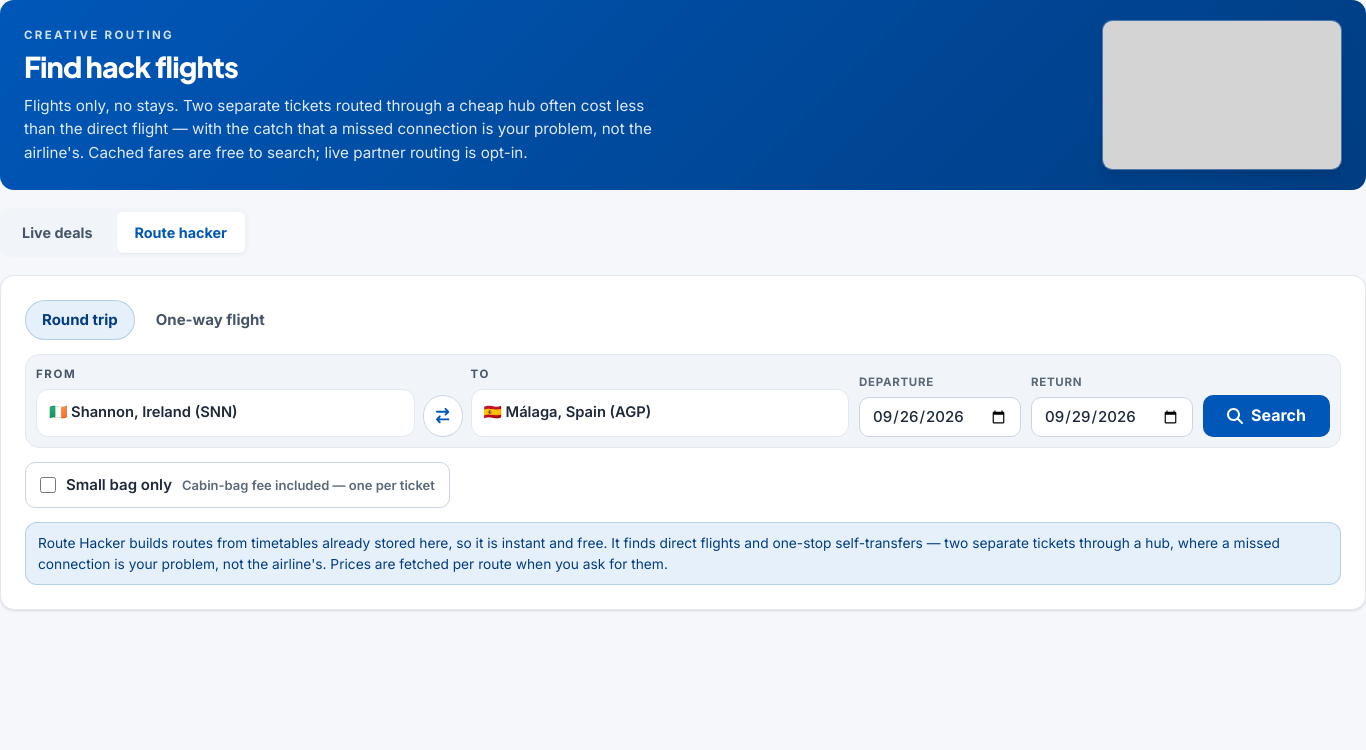
Scenario: Hack Flights search controls › says which airports a city search actually covered
This screenshot has width=1366, height=750.
Type "Paris" into the dropdown labelled "To" at (660, 413), box [470, 390, 849, 437]
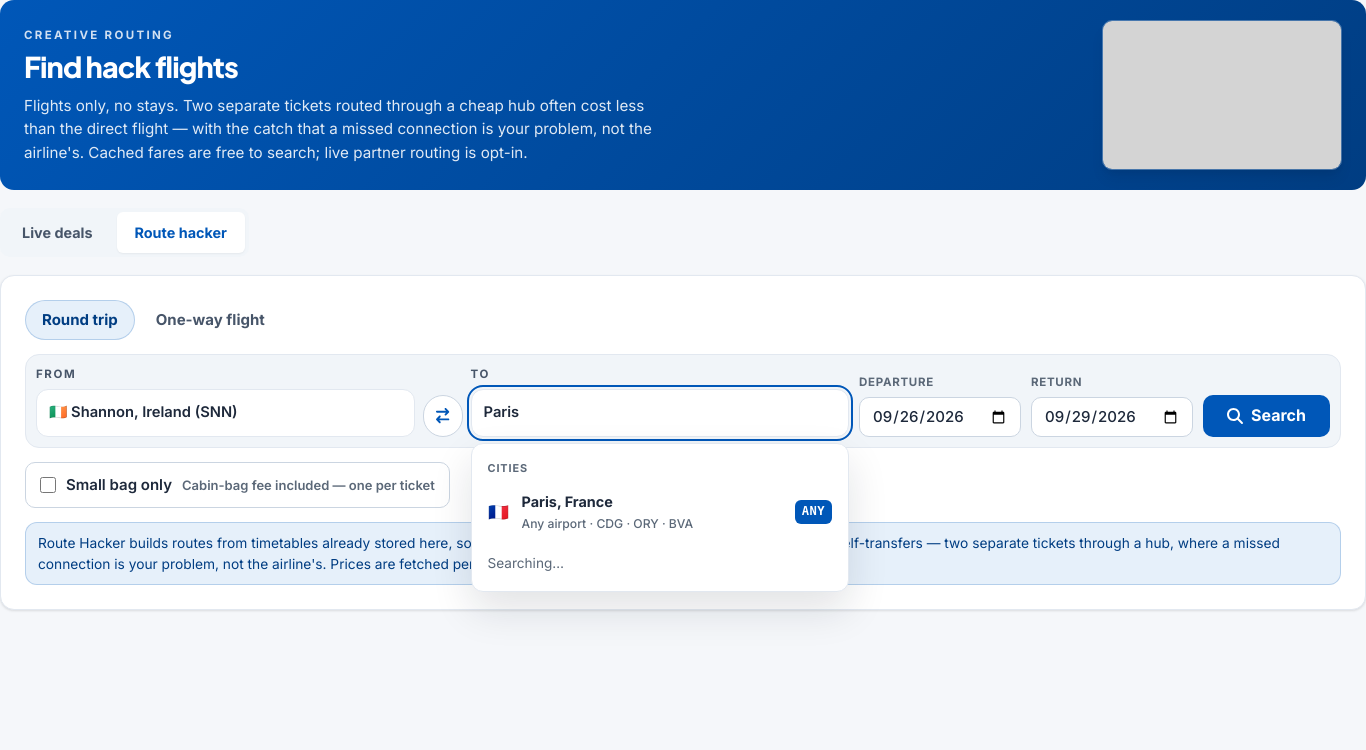
Click the option with aria-label "Paris — CDG, ORY, BVA" at (539, 502), box [478, 481, 842, 543]
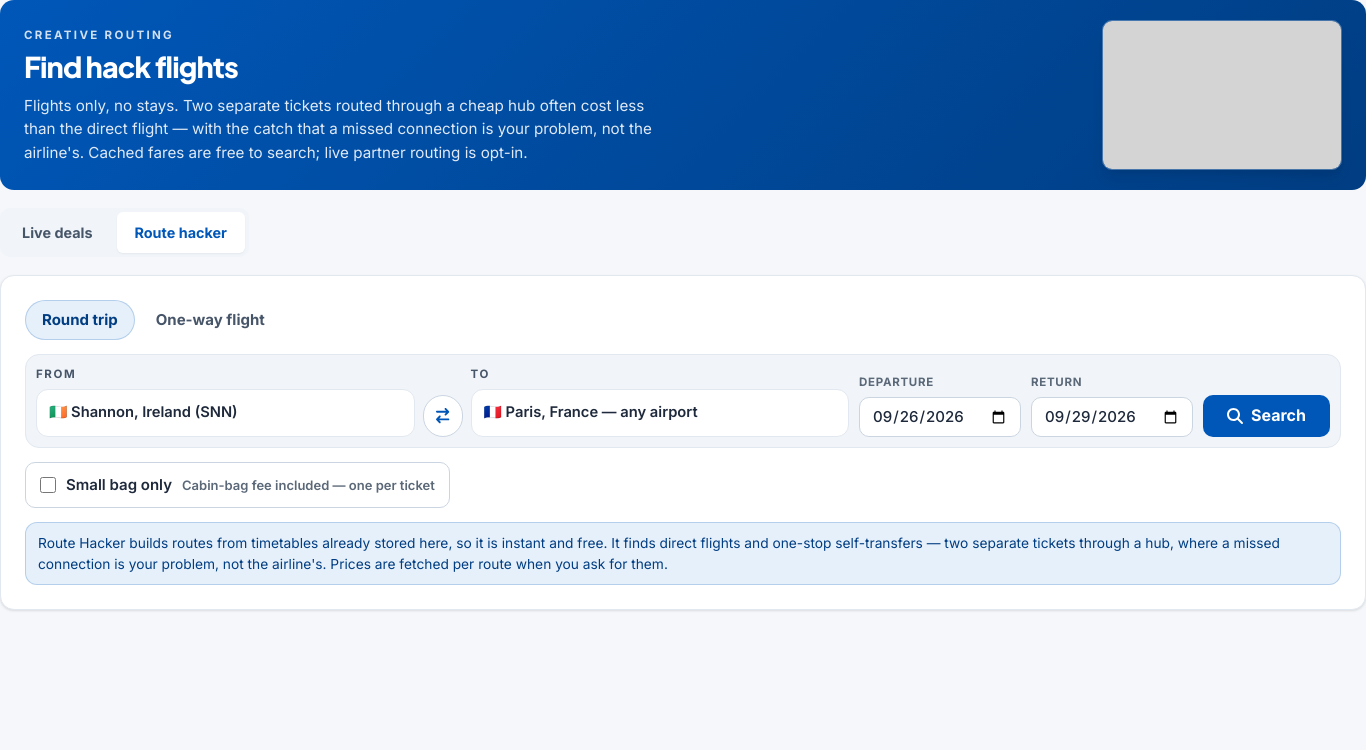
Click the button with aria-label "assemble hacker routes" at (1266, 416), box [1203, 395, 1330, 437]
(page scrolled)
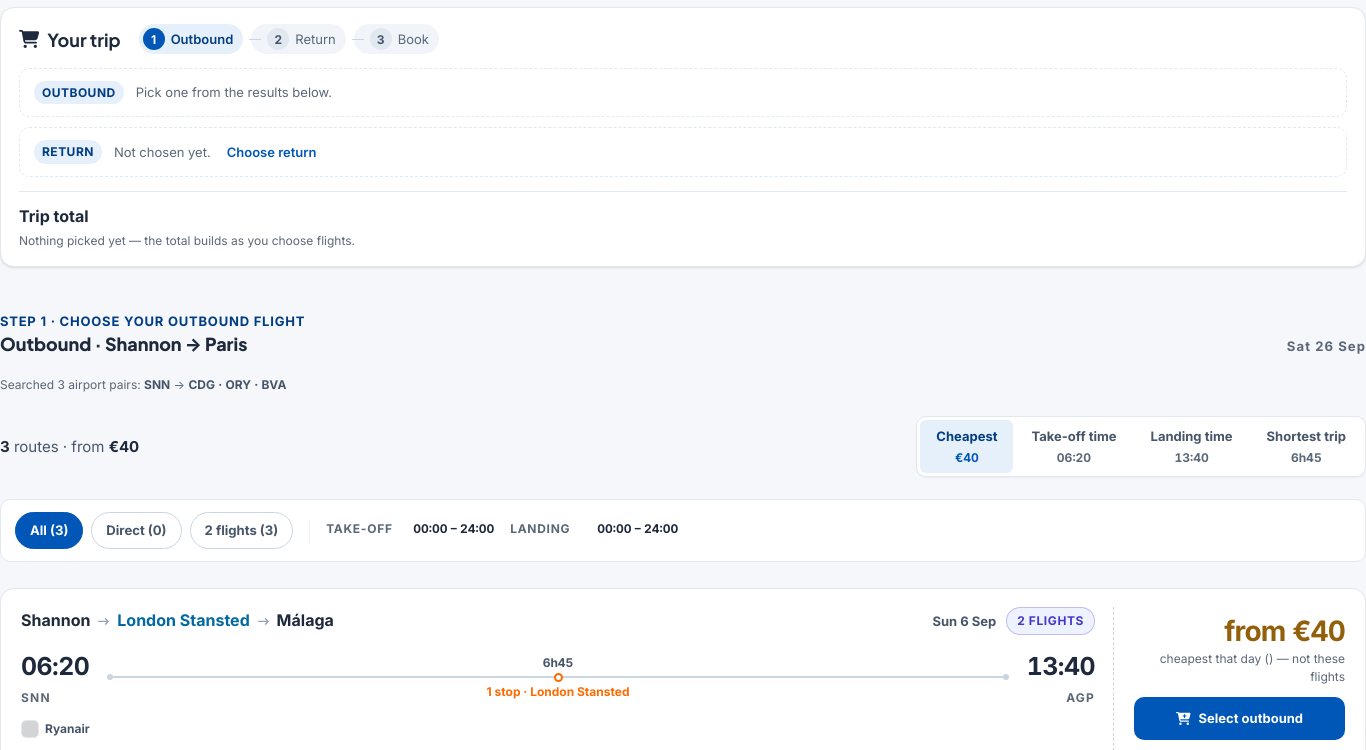
Check: the heading "Outbound · Shannon → Paris" is shown, box [0, 332, 247, 356]
Check: the text "Searched 3 airport pairs: SNN → CDG · ORY · BVA" is shown, box [0, 377, 286, 392]
Check: the text "Searched 3 airport pairs: SNN → CDG · ORY · BVA" is shown 2 times
